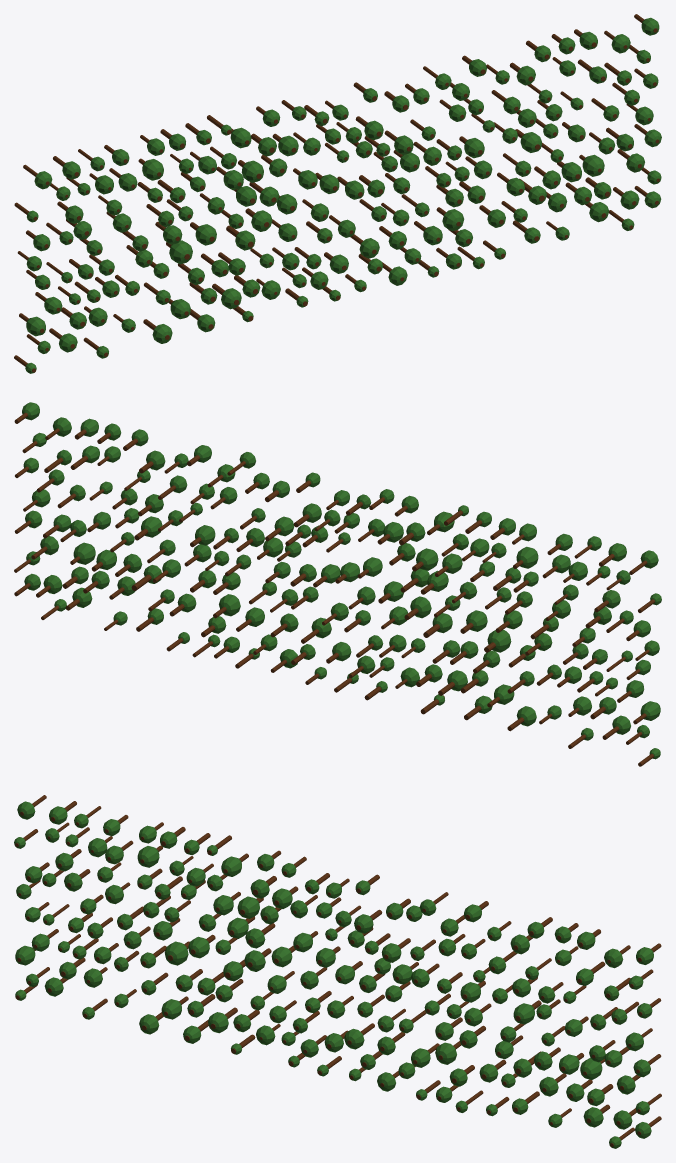
3 renders of one model, top to bottom at view 1: azimuth 30°, elevation 25°; view 2: azimuth 150°, elevation 25°; view 3: azimuth 330°, elevation 25°, orthographic.
Visible parts, largest first — view 1: reconstructed_tree_trunks_and_crowns; view 2: reconstructed_tree_trunks_and_crowns; view 3: reconstructed_tree_trunks_and_crowns.
Boxes of the visible parts, bbox=[...] form: reconstructed_tree_trunks_and_crowns: bbox=[14, 14, 661, 373]; reconstructed_tree_trunks_and_crowns: bbox=[14, 402, 661, 766]; reconstructed_tree_trunks_and_crowns: bbox=[14, 795, 661, 1148].
Bounding box in the file's own units: 61.63 × 18.82 × 3.98.
